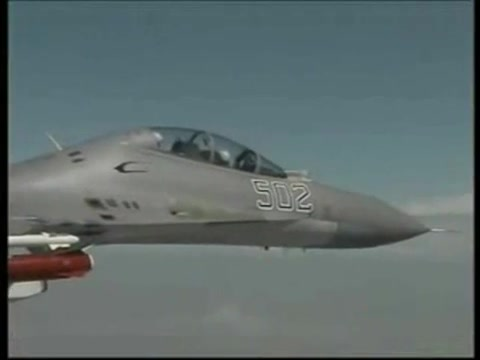aeroplane: (10, 126, 464, 301)
